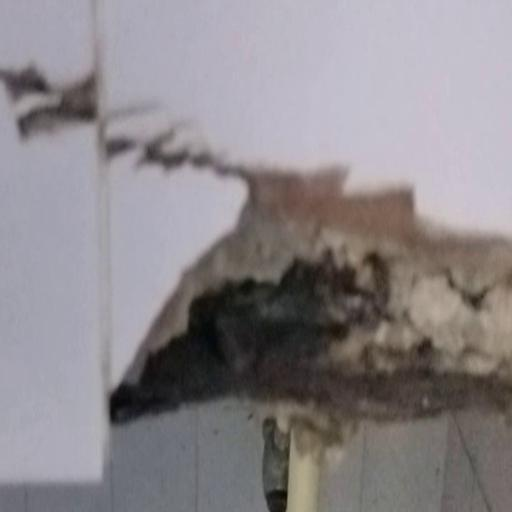spalling: (109, 106, 512, 452)
